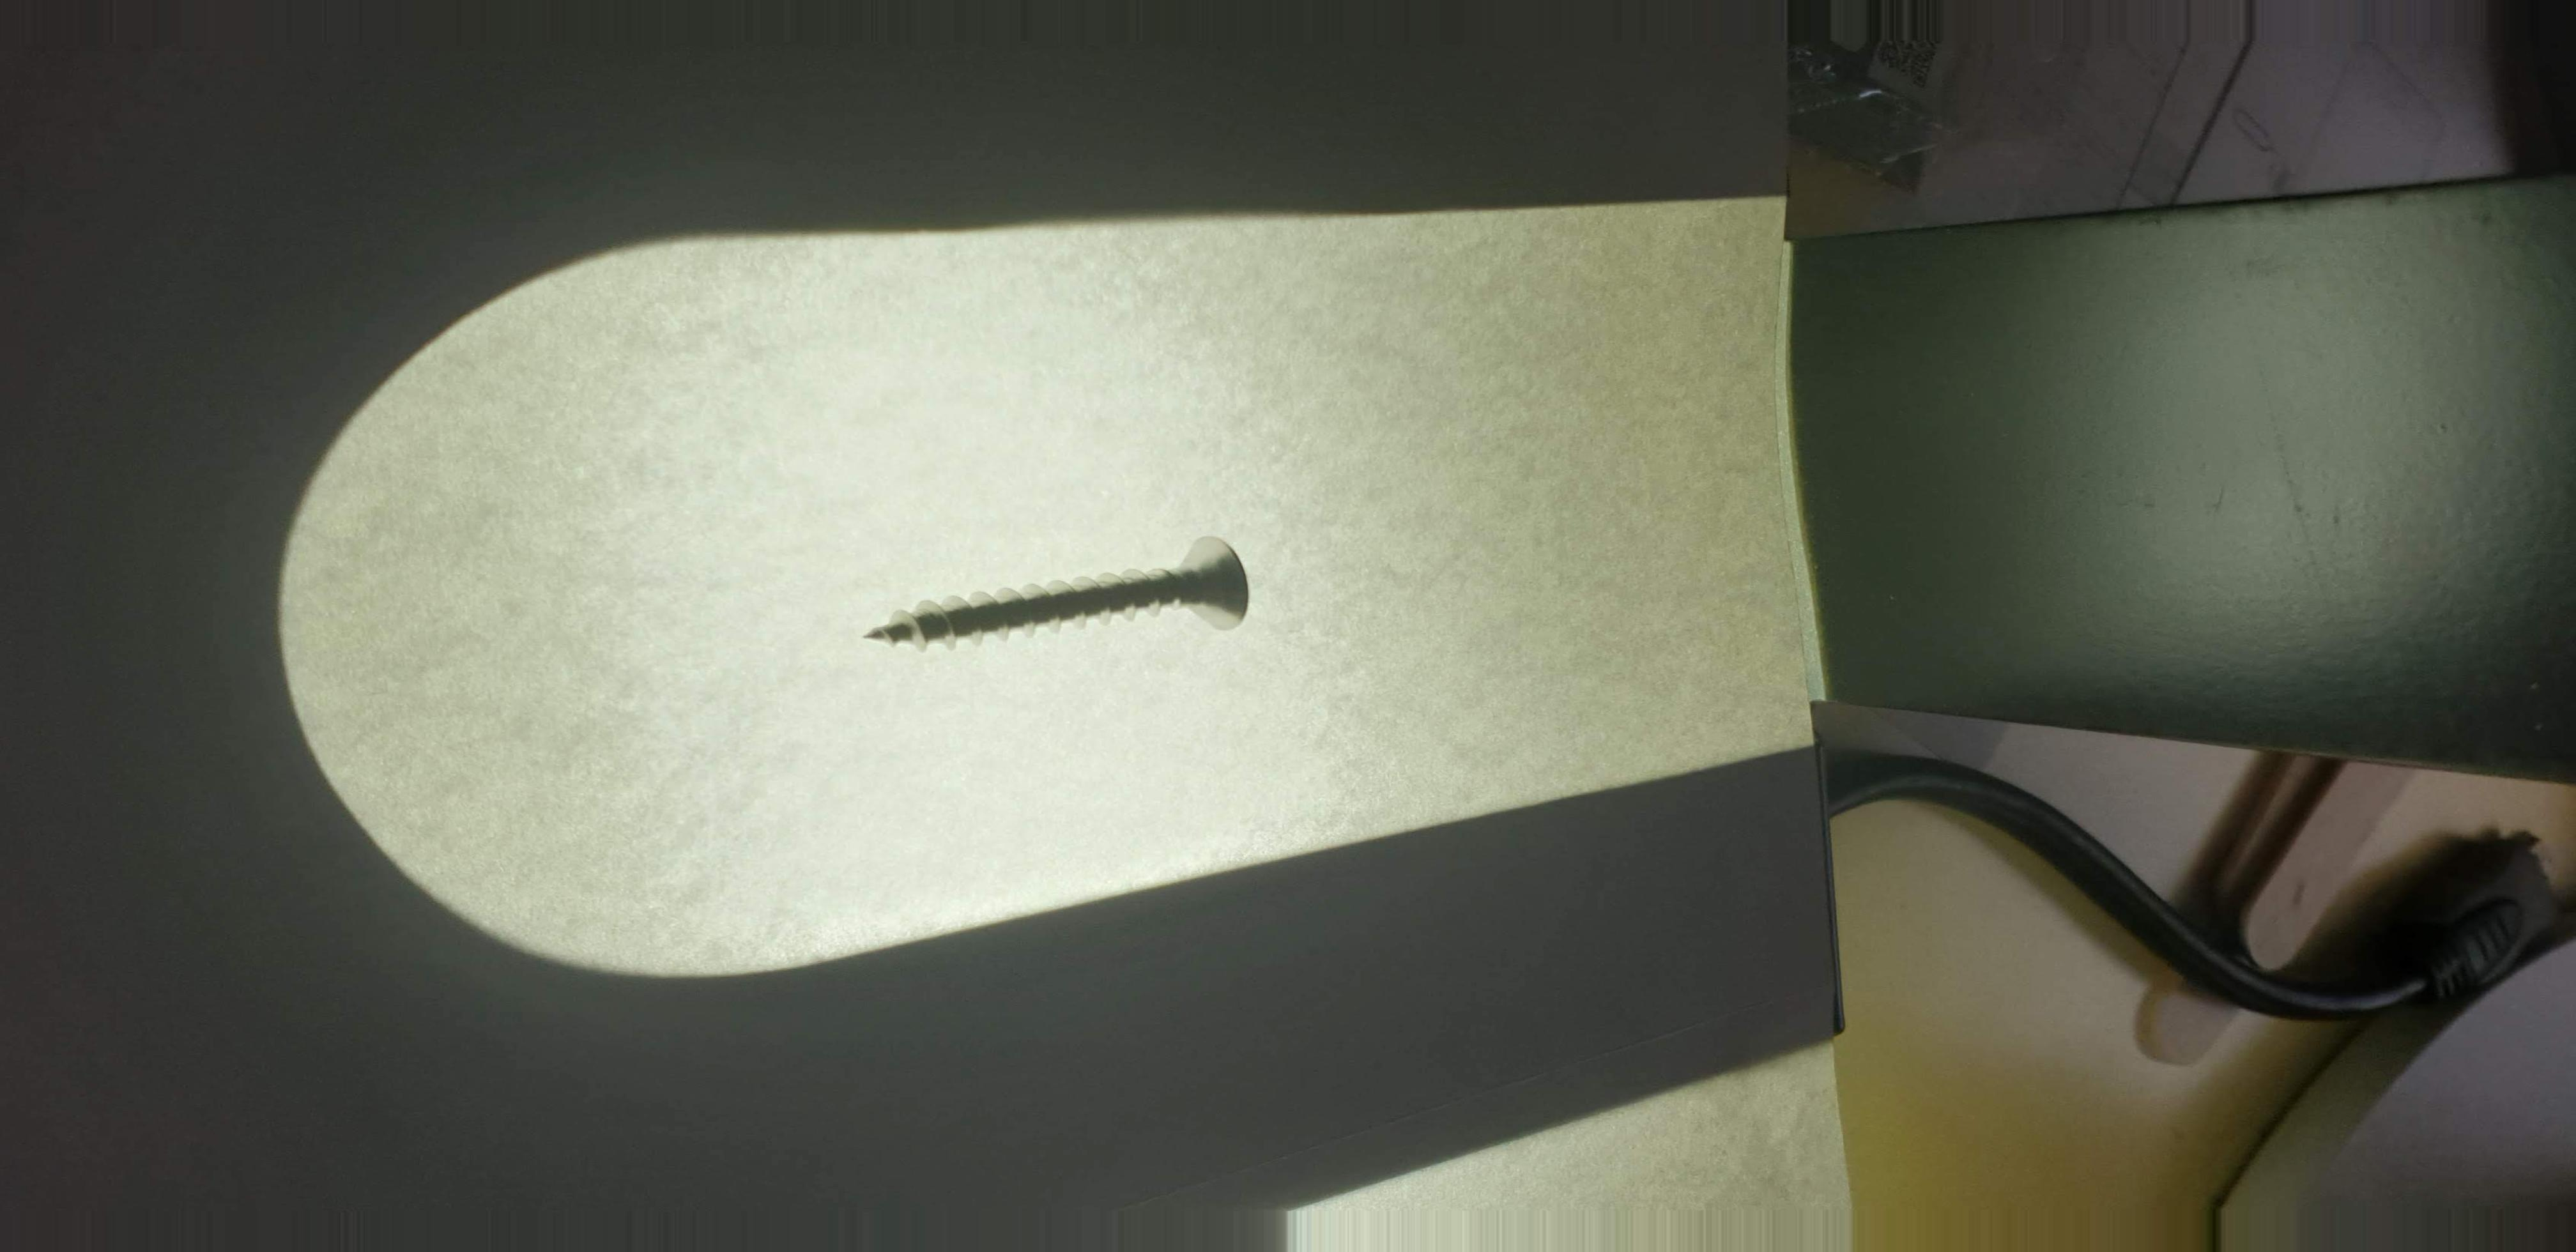S004: (831, 521, 1308, 674)
